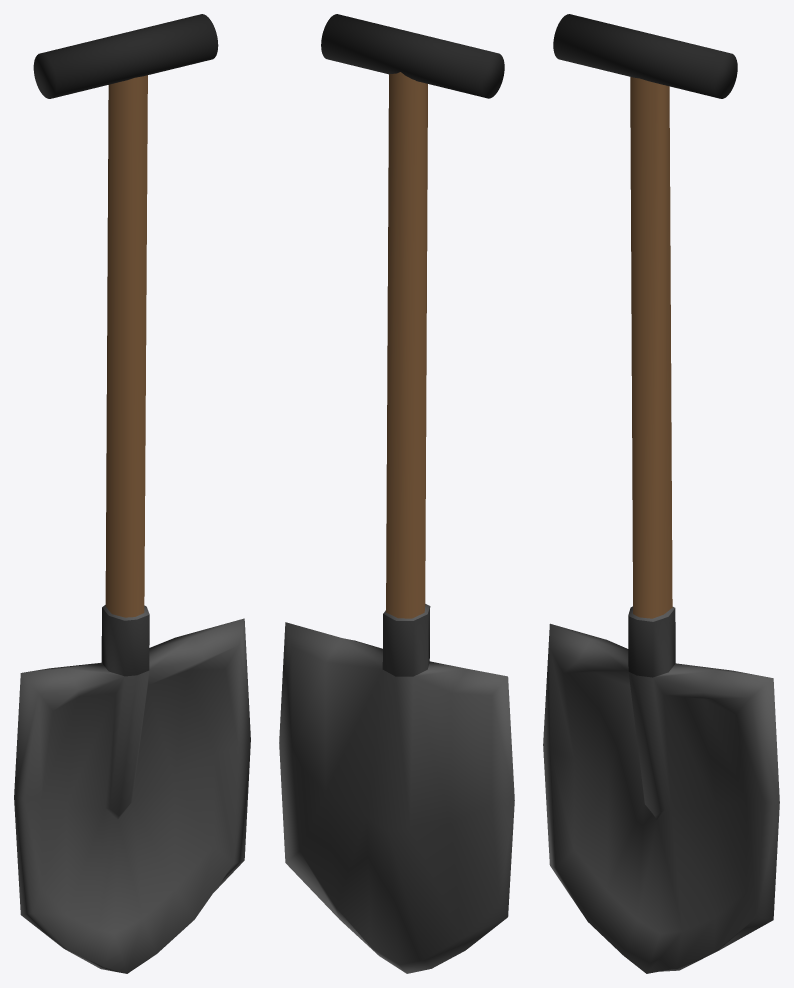
File: Shovel.fbx
3 views of the same model, side by side, from view 1: azimuth 30°, elevation 25°; view 2: azimuth 150°, elevation 25°; view 3: azimuth 330°, elevation 25° (orthographic).
Visible parts, largest first — view 1: Shovel; view 2: Shovel; view 3: Shovel.
Boxes of the visible parts, <box> form: Shovel: <box>14,14,250,973</box>; Shovel: <box>279,14,514,973</box>; Shovel: <box>543,14,779,973</box>.
Bounding box in the file's own units: 85.44 × 324 × 21.83.
